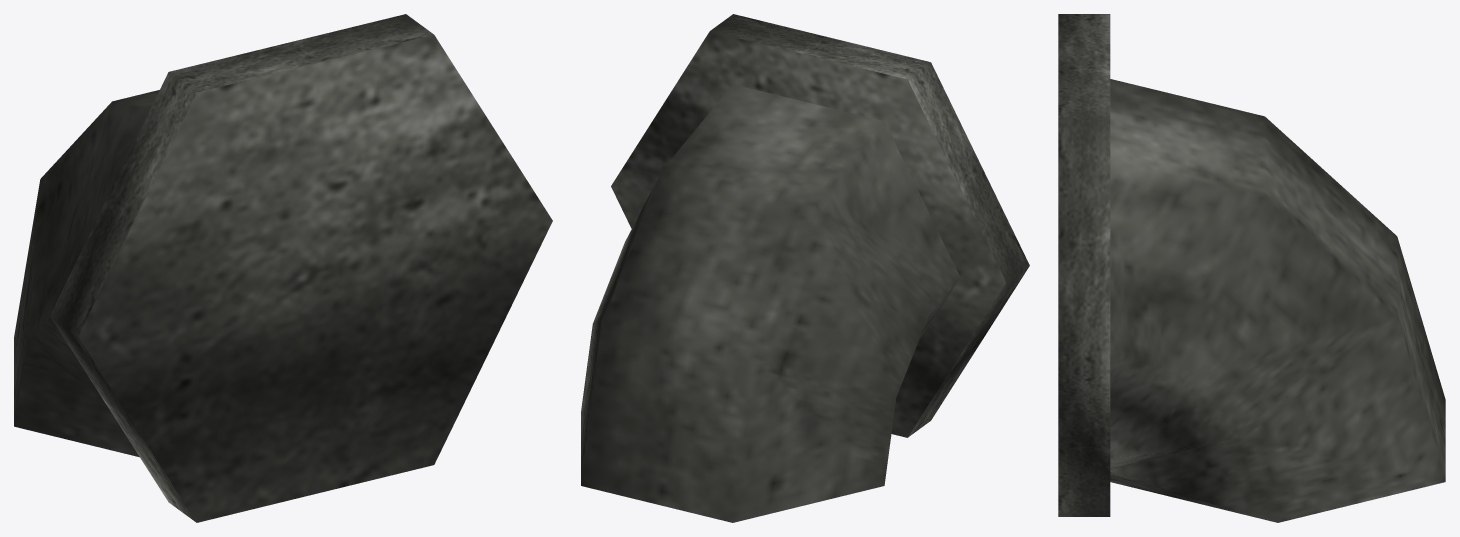
File: small_metal_1_elbow.fbx
3 views of the same model, side by side, from view 1: azimuth 30°, elevation 25°; view 2: azimuth 150°, elevation 25°; view 3: azimuth 270°, elevation 25° (orthographic). The views are drawn at different scales.
Visible parts, largest first — view 1: polySurface527; view 2: polySurface527; view 3: polySurface527.
Part boxes in pixels (x1,y1,x2,y2): polySurface527: (14,14,552,522); polySurface527: (581,14,1029,522); polySurface527: (1058,14,1445,522).
Bounding box in the file's own units: 1.3 × 1.13 × 1.
